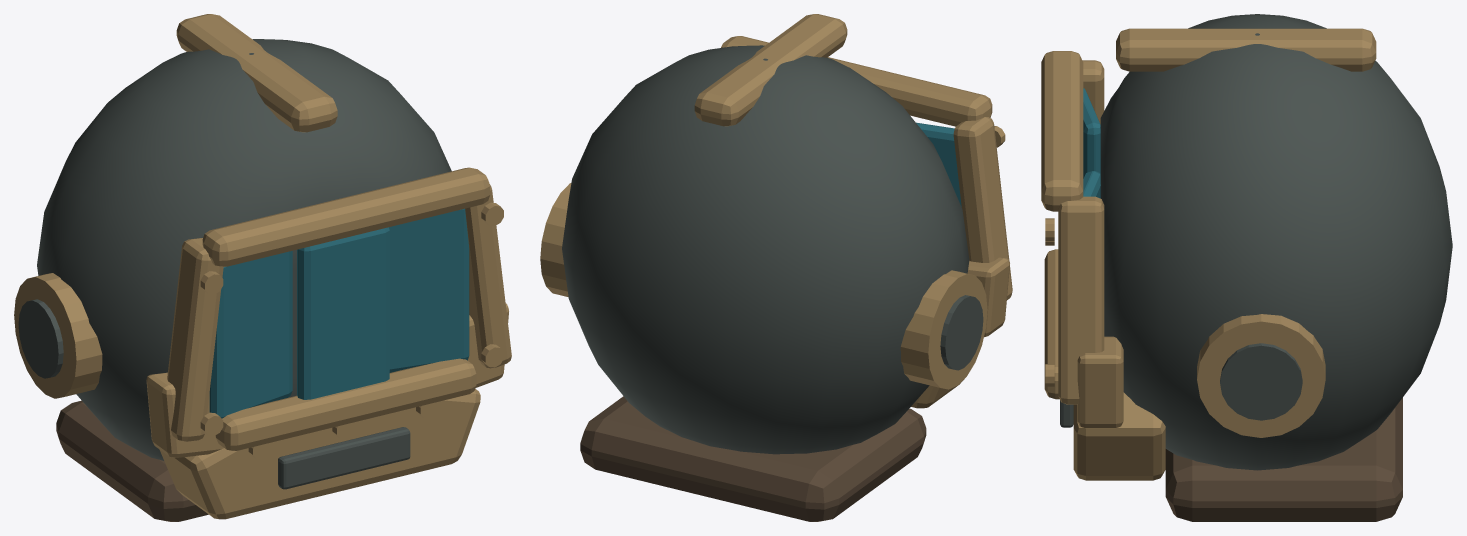
File: psy_visor_helmet.glb
The picture shows the model from 3 angles, left to right: view 1: azimuth 30°, elevation 25°; view 2: azimuth 150°, elevation 25°; view 3: azimuth 270°, elevation 25°; orthographic projection. The views are drawn at different scales.
Visible parts, largest first — view 1: psy_visor_helmet_Charcoal_Gear_Shell, psy_visor_helmet_Worn_Bronze_Gear, psy_visor_helmet_Opaque_Blue_Visor, psy_visor_helmet_Dark_Brown_Leather; view 2: psy_visor_helmet_Charcoal_Gear_Shell, psy_visor_helmet_Worn_Bronze_Gear, psy_visor_helmet_Dark_Brown_Leather, psy_visor_helmet_Opaque_Blue_Visor; view 3: psy_visor_helmet_Charcoal_Gear_Shell, psy_visor_helmet_Worn_Bronze_Gear, psy_visor_helmet_Dark_Brown_Leather, psy_visor_helmet_Opaque_Blue_Visor.
Part boxes in pixels (<box>): psy_visor_helmet_Charcoal_Gear_Shell: <box>18,39,451,489</box>; psy_visor_helmet_Worn_Bronze_Gear: <box>14,14,511,519</box>; psy_visor_helmet_Opaque_Blue_Visor: <box>209,208,469,418</box>; psy_visor_helmet_Dark_Brown_Leather: <box>56,400,208,521</box>; psy_visor_helmet_Charcoal_Gear_Shell: <box>562,45,983,454</box>; psy_visor_helmet_Worn_Bronze_Gear: <box>540,14,1012,408</box>; psy_visor_helmet_Dark_Brown_Leather: <box>580,396,926,521</box>; psy_visor_helmet_Opaque_Blue_Visor: <box>916,122,961,206</box>; psy_visor_helmet_Charcoal_Gear_Shell: <box>1060,14,1452,470</box>; psy_visor_helmet_Worn_Bronze_Gear: <box>1041,28,1376,480</box>; psy_visor_helmet_Dark_Brown_Leather: <box>1165,397,1402,521</box>; psy_visor_helmet_Opaque_Blue_Visor: <box>1083,88,1100,198</box>.
Size of the model in its own units: 0.656 by 0.62 by 0.5375.
